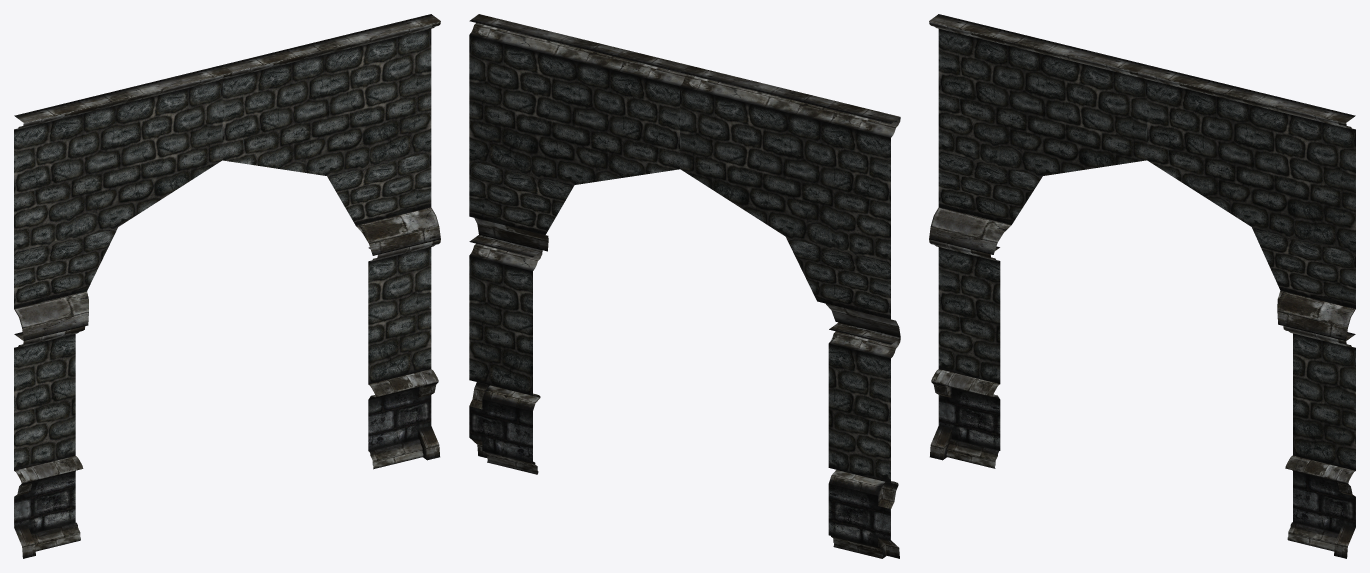
Rendered from door_way_large_arched.dae.
3 views of the same model, side by side, from view 1: azimuth 30°, elevation 25°; view 2: azimuth 150°, elevation 25°; view 3: azimuth 330°, elevation 25° (orthographic).
Parts seen in each view (by area): view 1: wall_extension_polySurface112, wall_extension_polySurface111, polySurface112, polySurface144; view 2: wall_extension_polySurface112, wall_extension_polySurface111, polySurface144, polySurface112; view 3: wall_extension_polySurface112, wall_extension_polySurface111, polySurface144, polySurface112.
Part boxes in pixels (left/top/right/bottom): wall_extension_polySurface112: left=222, top=14, right=440, bottom=255; wall_extension_polySurface111: left=14, top=65, right=232, bottom=340; polySurface112: left=368, top=239, right=440, bottom=469; polySurface144: left=14, top=326, right=85, bottom=558; wall_extension_polySurface112: left=469, top=14, right=689, bottom=251; wall_extension_polySurface111: left=680, top=65, right=900, bottom=337; polySurface144: left=828, top=322, right=900, bottom=558; polySurface112: left=469, top=235, right=542, bottom=474; wall_extension_polySurface112: left=1137, top=65, right=1355, bottom=340; wall_extension_polySurface111: left=929, top=14, right=1147, bottom=254; polySurface144: left=929, top=239, right=1000, bottom=468; polySurface112: left=1283, top=326, right=1355, bottom=558.
Size of the model in its own units: 8 by 8 by 0.3219.
